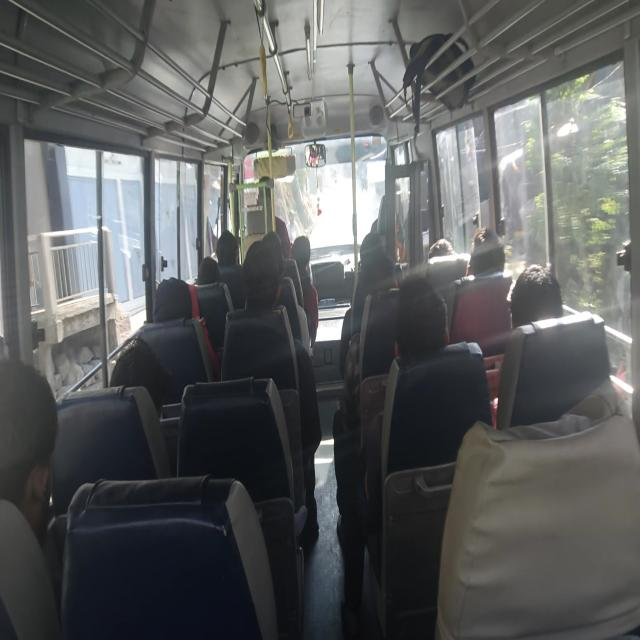person: (0, 376, 80, 540), (393, 272, 452, 358), (516, 261, 570, 354), (112, 333, 169, 411), (464, 238, 515, 305), (244, 242, 281, 306), (158, 269, 198, 326), (372, 247, 414, 300), (425, 228, 461, 269), (263, 226, 293, 273), (192, 248, 221, 290), (359, 226, 392, 260), (290, 230, 320, 261), (214, 230, 235, 255)
